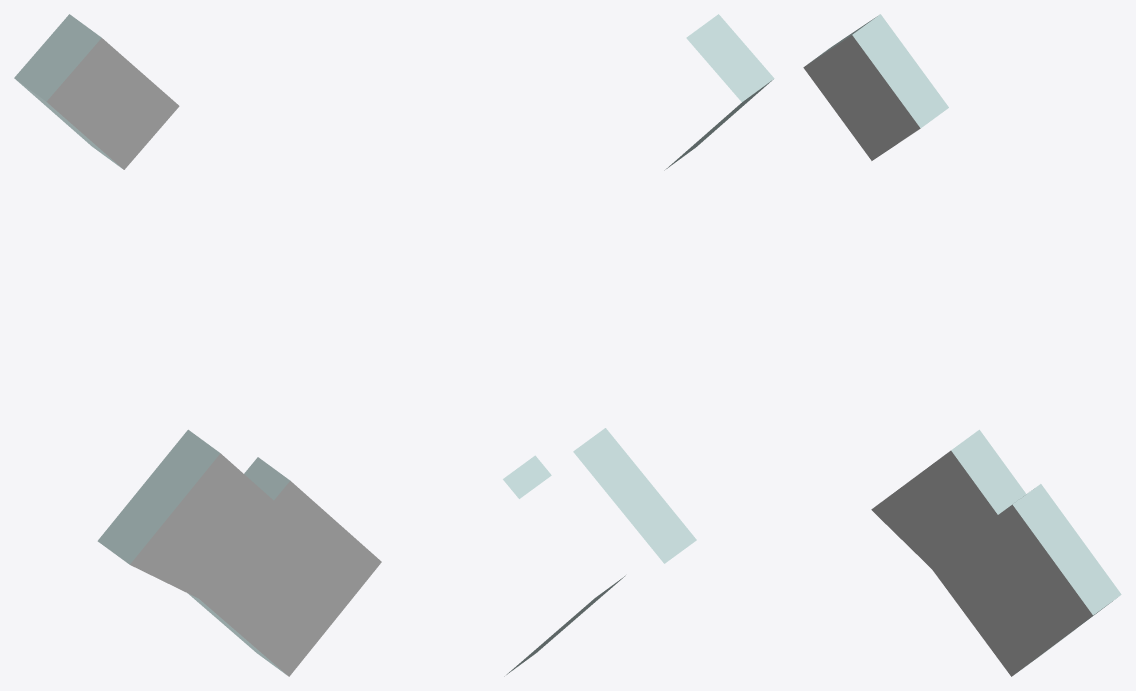
The picture shows the model from 3 angles, left to right: view 1: azimuth 30°, elevation 25°; view 2: azimuth 150°, elevation 25°; view 3: azimuth 330°, elevation 25°; orthographic projection. The views are drawn at different scales.
Visible parts, largest first — view 1: 0_2_3_3_3_0_2_0_2; view 2: 0_2_3_3_3_0_2_0_2; view 3: 0_2_3_3_3_0_2_0_2.
Part boxes in pixels (left/top/right/bottom): 0_2_3_3_3_0_2_0_2: left=14, top=14, right=381, bottom=676; 0_2_3_3_3_0_2_0_2: left=503, top=14, right=774, bottom=676; 0_2_3_3_3_0_2_0_2: left=803, top=14, right=1121, bottom=676.
Bounding box in the file's own units: 17.76 × 34.81 × 3.3.
